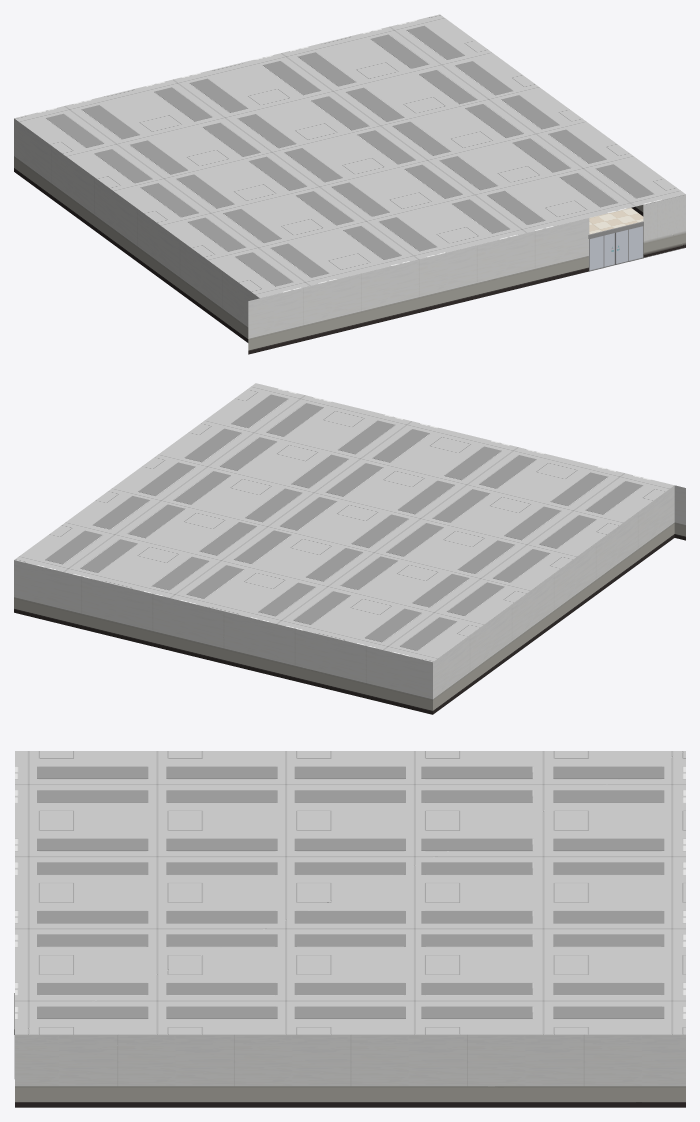
File: fierd01.fbx
The picture shows the model from 3 angles, top to bottom: view 1: azimuth 30°, elevation 25°; view 2: azimuth 150°, elevation 25°; view 3: azimuth 270°, elevation 25°; orthographic projection. The views are drawn at different scales.
Parts seen in each view (by area): view 1: tenjyou, wall_yoko2, wall_tate1, light_12, light_13, light_14, light_11, light_10, wall_yoko3, yuka, pCube36, pCube37; view 2: tenjyou, wall_yoko1, wall_tate1, light_10, light_12, light_11, light_13, light_14, wall_yoko2; view 3: tenjyou, wall_tate2, light_11, light_13, light_10, light_12, light_14.
Boxes of the visible parts, bbox=[...] form: tenjyou: bbox=[14, 14, 685, 298]; wall_yoko2: bbox=[248, 218, 589, 354]; wall_tate1: bbox=[14, 118, 259, 342]; light_12: bbox=[140, 95, 559, 217]; light_13: bbox=[188, 129, 606, 251]; light_14: bbox=[235, 164, 653, 286]; light_11: bbox=[94, 61, 512, 183]; light_10: bbox=[46, 25, 464, 147]; wall_yoko3: bbox=[643, 194, 685, 257]; yuka: bbox=[589, 208, 643, 234]; pCube36: bbox=[589, 235, 604, 271]; pCube37: bbox=[628, 226, 643, 261]; tenjyou: bbox=[14, 383, 673, 662]; wall_yoko1: bbox=[14, 560, 432, 714]; wall_tate1: bbox=[433, 485, 674, 714]; light_10: bbox=[45, 530, 456, 650]; light_12: bbox=[138, 462, 550, 582]; light_11: bbox=[92, 496, 504, 615]; light_13: bbox=[184, 428, 596, 548]; light_14: bbox=[231, 394, 642, 514]; wall_yoko2: bbox=[674, 485, 685, 540]; tenjyou: bbox=[15, 751, 685, 1034]; wall_tate2: bbox=[15, 1034, 685, 1107]; light_11: bbox=[421, 766, 532, 1018]; light_13: bbox=[166, 766, 277, 1018]; light_10: bbox=[553, 766, 664, 1018]; light_12: bbox=[294, 766, 405, 1018]; light_14: bbox=[37, 766, 148, 1018].
Size of the model in its own units: 5136 by 602 by 5008.
